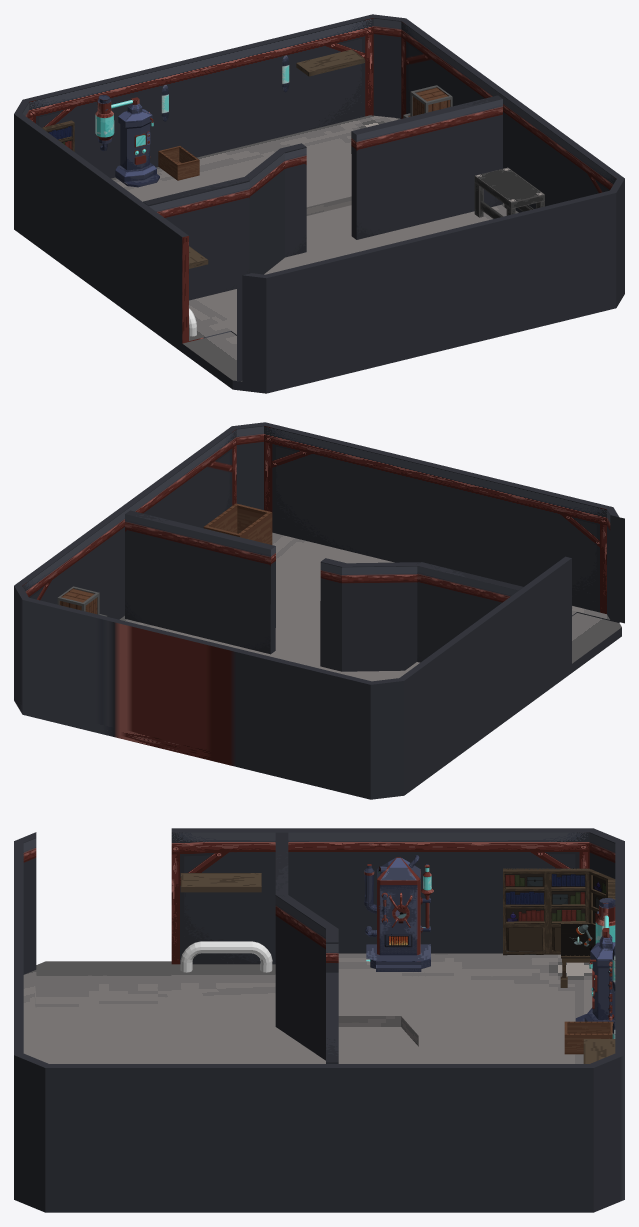
File: 2floor.fbx
3 views of the same model, one above another, from view 1: azimuth 30°, elevation 25°; view 2: azimuth 150°, elevation 25°; view 3: azimuth 270°, elevation 25° (orthographic). The views are drawn at different scales.
Visible parts, largest first — view 1: ชั้น2.001, Cube.075, Cube.076, New object.009, Cube.086, Cube.073, Cube.087, Cube.072, New object.008; view 2: ชั้น2.001, Cube.075, Cube.085, Cube.072; view 3: ชั้น2.001, Cube.076, Cube.075, New object.008, New object.010, New object.009, Cube.089, Plane.004, Cube.073, Cube.087.
Boxes of the visible parts, x1,y1,x2,y2 form: ชั้น2.001: (14, 14, 624, 393); Cube.075: (143, 95, 502, 300); Cube.076: (111, 115, 400, 215); New object.009: (95, 95, 159, 187); Cube.086: (474, 167, 544, 218); Cube.073: (158, 146, 199, 180); Cube.087: (296, 49, 364, 76); Cube.072: (410, 85, 452, 116); New object.008: (42, 120, 74, 151); ชั้น2.001: (14, 422, 624, 799); Cube.075: (125, 510, 523, 671); Cube.085: (203, 503, 272, 544); Cube.072: (57, 586, 99, 614); ชั้น2.001: (14, 828, 624, 1212); Cube.076: (338, 953, 592, 1063); Cube.075: (275, 832, 338, 1063); New object.008: (503, 868, 615, 987); New object.010: (364, 855, 433, 971); New object.009: (575, 898, 615, 1022); Cube.089: (180, 873, 261, 892); Plane.004: (180, 941, 272, 972); Cube.073: (564, 1021, 613, 1054); Cube.087: (583, 1039, 615, 1063).
Bounding box in the file's own units: 404 × 133 × 436.
25 materials, 19 textured.
